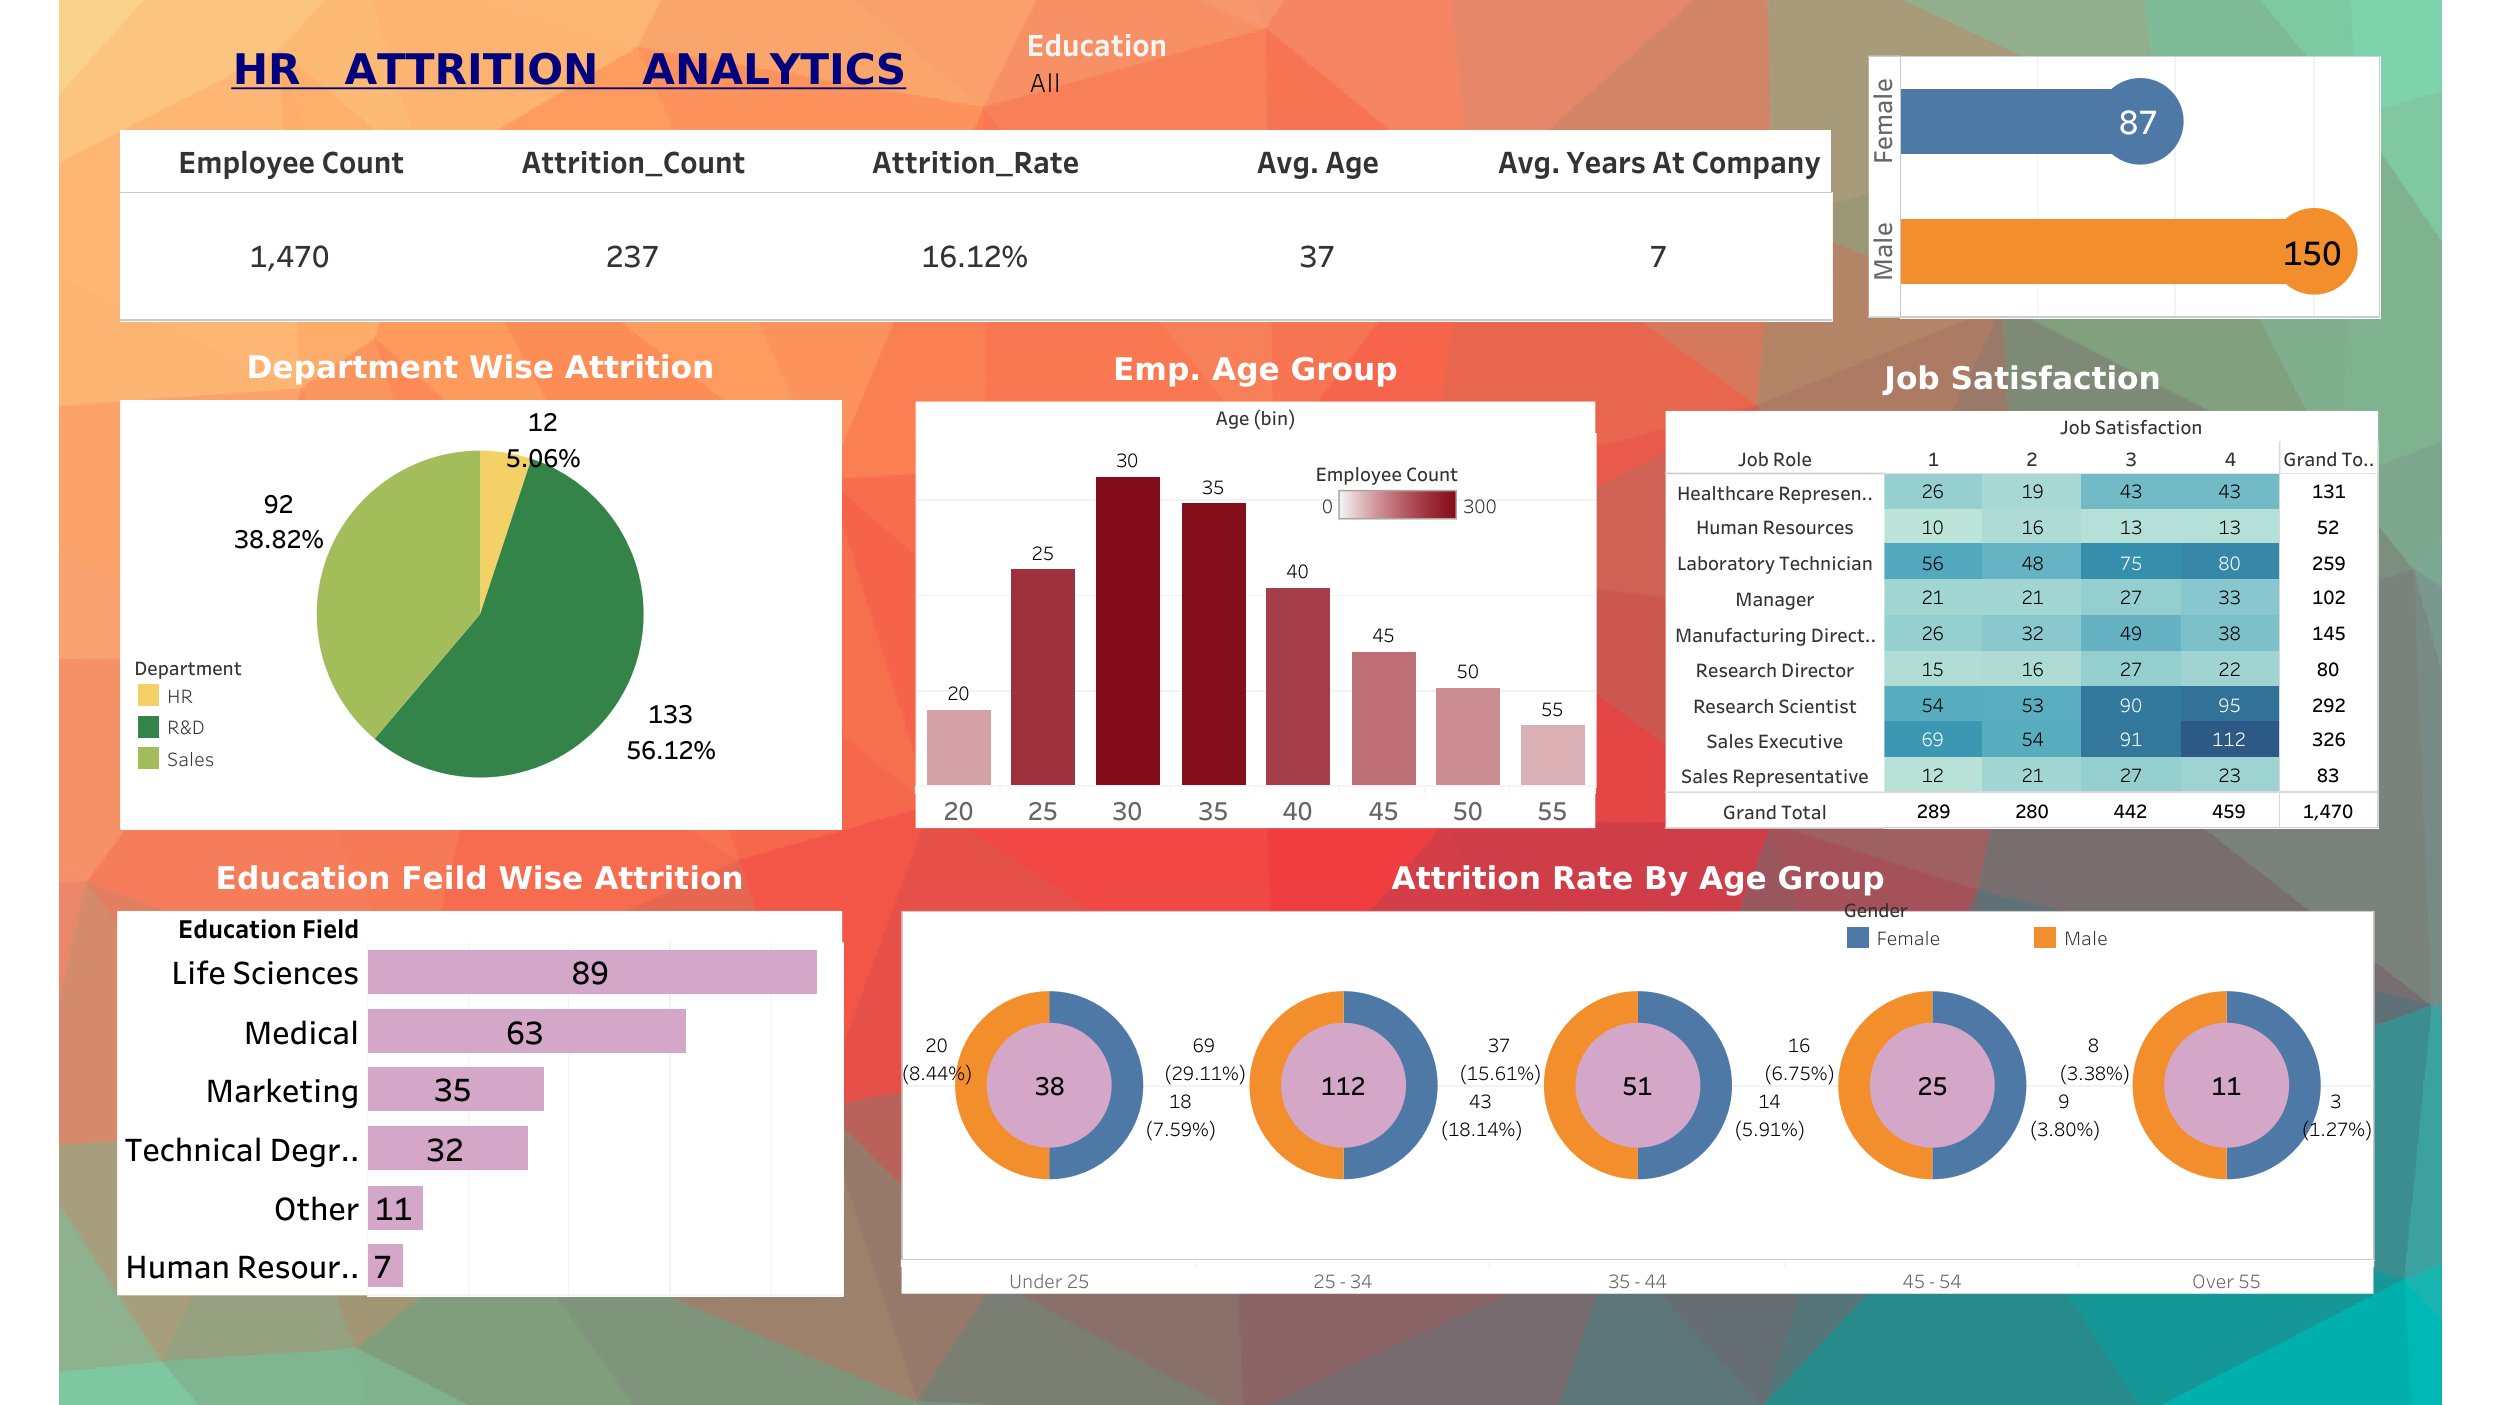

Layout of this report page (visuals, bound fields, positions):
{"tool":"tableau","page":{"name":"HR ATTRITION ANALYTICS","canvas":[1600,900],"ordinal":0},"visuals":[{"type":"text","box":[77,7,575,74]},{"type":"filter","title":"KPI","param":"[federated.0siveq40d3mls11ehda8713e62mh].[none:Education:nk]","box":[657,14,226,60]},{"type":"worksheet","title":"Attrition by Gender","mark":"Automatic","rows":["Gender"],"cols":["Calculation_567172106798063616","Calculation_567172106798063616"],"box":[1196,36,328,168]},{"type":"worksheet","title":"KPI","mark":"Automatic","box":[77,83,1096,123]},{"type":"worksheet","title":"Department Wise Attrition","mark":"Pie","box":[77,217,461,313]},{"type":"worksheet","title":"Emp. Age Group","mark":"Automatic","rows":["Employee Count"],"cols":["Age (bin)"],"box":[586,218,435,312]},{"type":"worksheet","title":"Job Satisfaction","mark":"Square","rows":["Job Role"],"cols":["Job Satisfaction"],"box":[1066,224,457,307]},{"type":"legend","title":"Emp. Age Group","param":"[federated.0siveq40d3mls11ehda8713e62mh].[sum:Employee Count:qk]","box":[842,290,121,61]},{"type":"legend","title":"Department Wise Attrition","param":"[federated.0siveq40d3mls11ehda8713e62mh].[none:Department:nk]","box":[85,416,140,85]},{"type":"worksheet","title":"Education Feild Wise Attrition","mark":"Automatic","rows":["Education Field"],"cols":["Calculation_567172106798063616"],"box":[75,544,464,285]},{"type":"worksheet","title":"Attrition Rate By Age Group","mark":"Pie","rows":["Calculation_567172106873831428","Calculation_567172106873831428"],"cols":["CF_age band"],"box":[577,544,943,285]},{"type":"legend","title":"Attrition Rate By Age Group","param":"[federated.0siveq40d3mls11ehda8713e62mh].[none:Gender:nk]","box":[1179,571,245,46]}]}

Visuals, with their boxes in screenshot pixels (x1, y1, x2, y2), scaled from the page's 1600x900 canvas onto the 2498x1405 screenshot:
text: {"x1": 120, "y1": 11, "x2": 1018, "y2": 126}
"KPI" filter: {"x1": 1026, "y1": 22, "x2": 1379, "y2": 116}
"Attrition by Gender" worksheet: {"x1": 1867, "y1": 56, "x2": 2379, "y2": 318}
"KPI" worksheet: {"x1": 120, "y1": 130, "x2": 1831, "y2": 322}
"Department Wise Attrition" worksheet (Pie marks): {"x1": 120, "y1": 339, "x2": 840, "y2": 827}
"Emp. Age Group" worksheet: {"x1": 915, "y1": 340, "x2": 1594, "y2": 827}
"Job Satisfaction" worksheet (Square marks): {"x1": 1664, "y1": 350, "x2": 2378, "y2": 829}
"Emp. Age Group" legend: {"x1": 1315, "y1": 453, "x2": 1503, "y2": 548}
"Department Wise Attrition" legend: {"x1": 133, "y1": 649, "x2": 351, "y2": 782}
"Education Feild Wise Attrition" worksheet: {"x1": 117, "y1": 849, "x2": 842, "y2": 1294}
"Attrition Rate By Age Group" worksheet (Pie marks): {"x1": 901, "y1": 849, "x2": 2373, "y2": 1294}
"Attrition Rate By Age Group" legend: {"x1": 1841, "y1": 891, "x2": 2223, "y2": 963}
